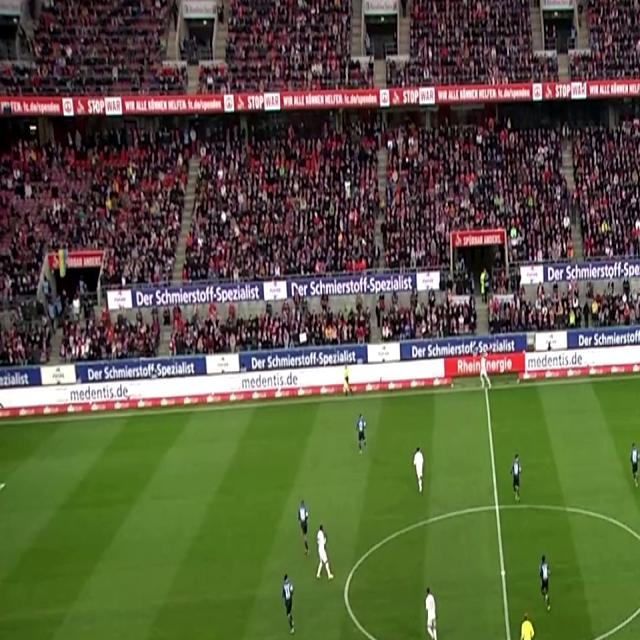referee: (511, 611, 539, 640)
soccer-player: (275, 569, 302, 639), (314, 524, 340, 588), (534, 551, 558, 617), (418, 580, 444, 640), (408, 440, 431, 498), (292, 496, 313, 559), (506, 448, 527, 502), (351, 407, 373, 456), (625, 436, 640, 490)
